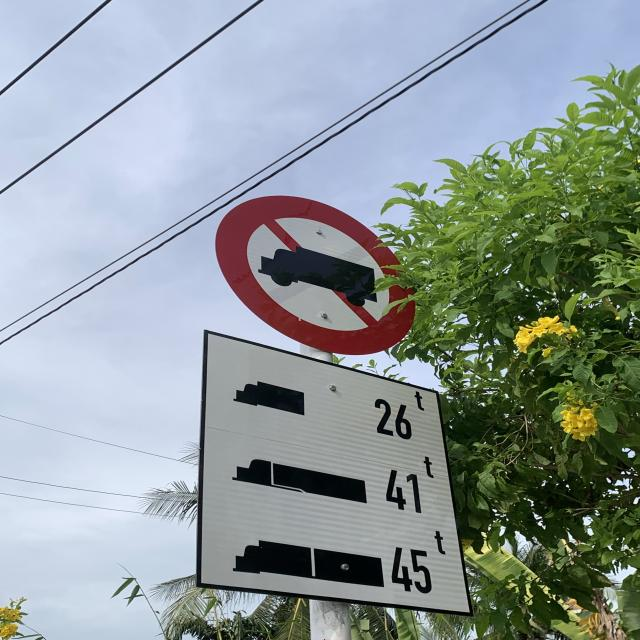Cam_Xe_Tai: (213, 195, 432, 355)
